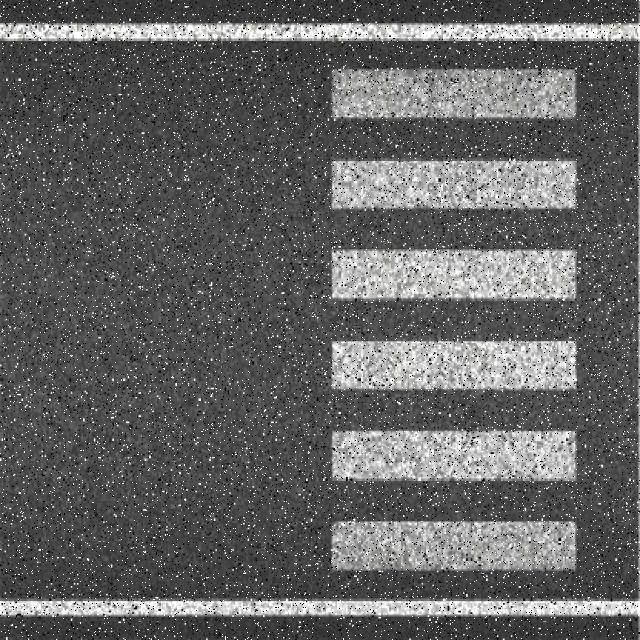crosswalk: (317, 42, 595, 600)
